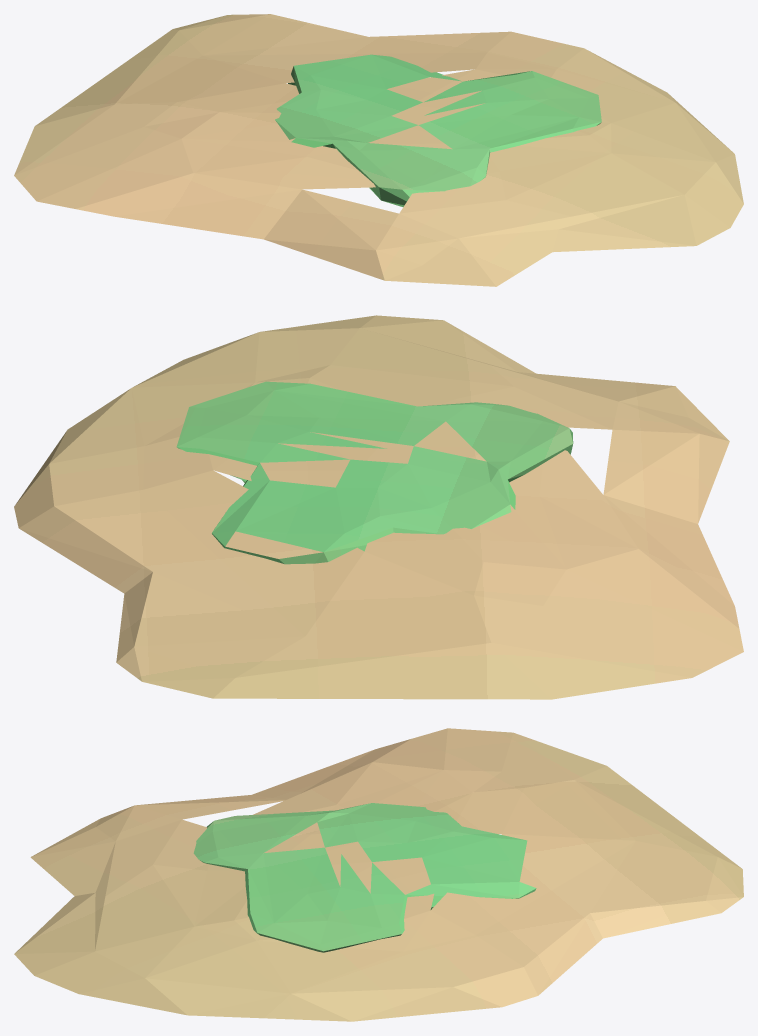
Rendered from island.glb.
3 renders of one model, top to bottom at view 1: azimuth 30°, elevation 25°; view 2: azimuth 150°, elevation 25°; view 3: azimuth 270°, elevation 25°, orthographic. The views are drawn at different scales.
Parts seen in each view (by area): view 1: Cube.003_Cube.002; view 2: Cube.003_Cube.002; view 3: Cube.003_Cube.002.
Boxes of the visible parts, left/top/right/bottom form: Cube.003_Cube.002: left=14, top=14, right=743, bottom=286; Cube.003_Cube.002: left=14, top=315, right=743, bottom=699; Cube.003_Cube.002: left=14, top=728, right=743, bottom=1021.
Bounding box in the file's own units: 47.54 × 3.34 × 49.93.
1 material, 1 textured.
